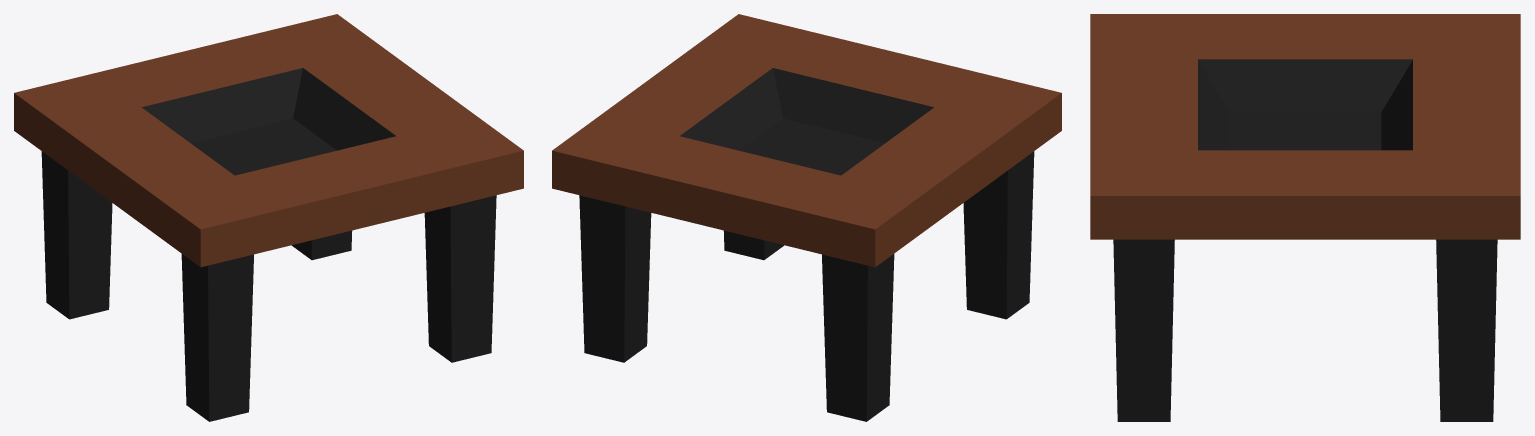
The model's file is FirePit.fbx.
The picture shows the model from 3 angles, left to right: view 1: azimuth 30°, elevation 25°; view 2: azimuth 150°, elevation 25°; view 3: azimuth 270°, elevation 25°; orthographic projection. The views are drawn at different scales.
Parts seen in each view (by area): view 1: Cube; view 2: Cube; view 3: Cube.
Boxes of the visible parts, x1,y1,x2,y2 form: Cube: (14,14,523,421); Cube: (552,14,1061,421); Cube: (1090,14,1520,421).
Bounding box in the file's own units: 325 × 198 × 325.
